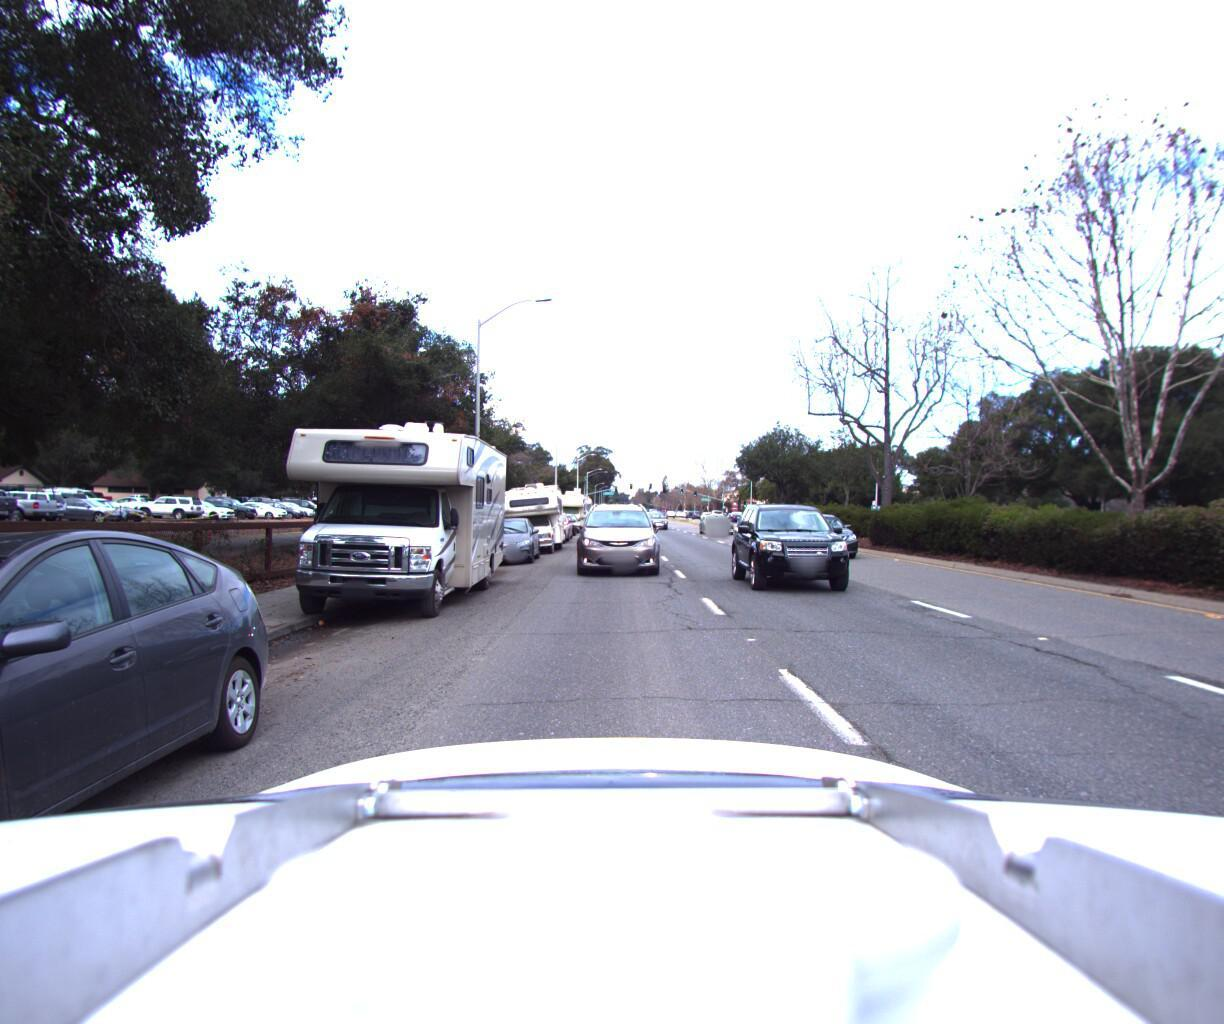car: (0, 517, 297, 1024), (738, 496, 885, 605), (577, 494, 659, 578), (782, 514, 873, 565), (466, 511, 542, 563), (697, 509, 738, 535), (645, 510, 671, 530)
other_vehicle: (250, 387, 507, 633), (481, 469, 567, 555), (543, 485, 586, 530)
